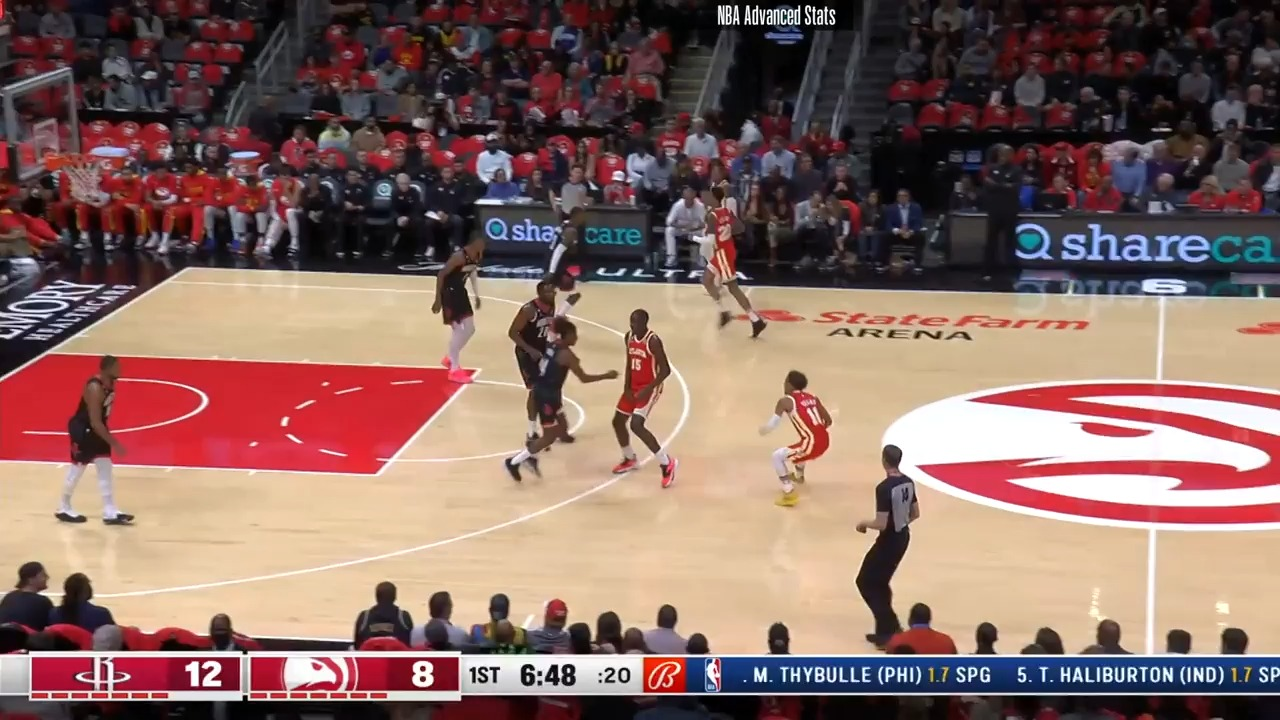net: (39, 145, 110, 205)
player: (509, 318, 610, 486), (601, 306, 685, 490), (52, 354, 131, 534), (690, 182, 768, 342), (513, 273, 572, 477), (761, 370, 840, 515), (429, 227, 492, 391), (540, 200, 595, 326)
referee: (847, 443, 925, 649)
